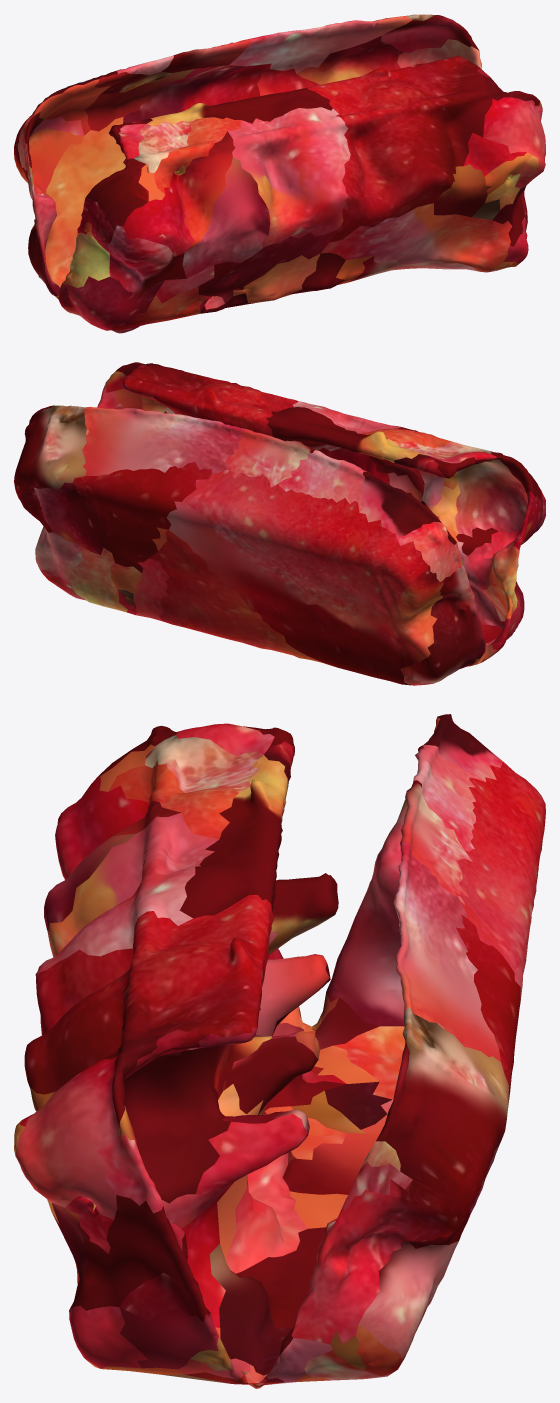
Rendered from 3DModel.obj.
3 views of the same model, one above another, from view 1: azimuth 30°, elevation 25°; view 2: azimuth 150°, elevation 25°; view 3: azimuth 270°, elevation 25° (orthographic). The views are drawn at different scales.
Parts seen in each view (by area): view 1: 3DModel; view 2: 3DModel; view 3: 3DModel.
Boxes of the visible parts, left/top/right/bottom form: 3DModel: left=14, top=14, right=545, bottom=333; 3DModel: left=14, top=362, right=545, bottom=685; 3DModel: left=14, top=714, right=545, bottom=1388.
Bounding box in the file's own units: 0.25 × 0.1164 × 0.1437.
